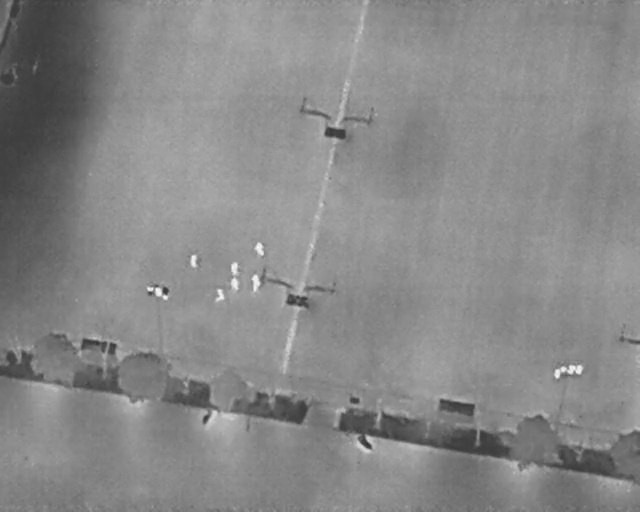Person: (251, 273, 261, 292), (230, 261, 240, 277), (230, 275, 240, 291), (255, 240, 265, 255), (215, 287, 225, 302), (190, 253, 199, 268)
